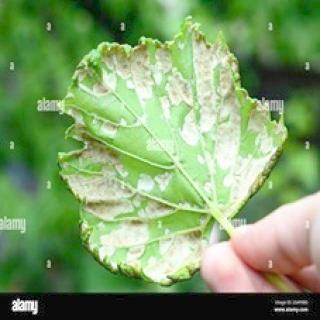grey mildew: (66, 25, 261, 267)
